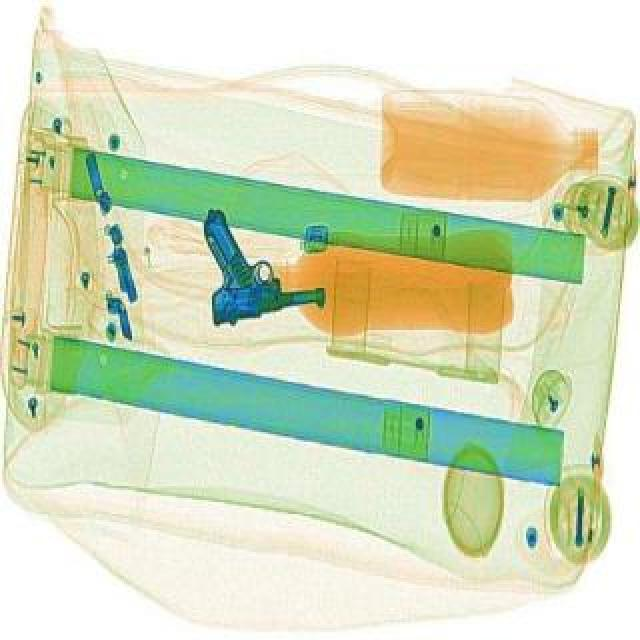gun: (194, 198, 328, 332)
